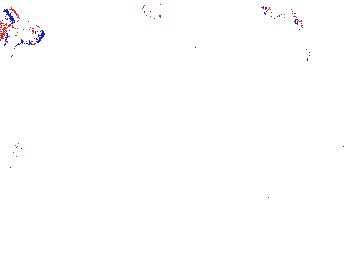X-ray fish: (141, 1, 178, 21)
glassfish: (68, 2, 222, 66)
redtail glassfish: (1, 18, 45, 50), (275, 62, 334, 85), (260, 3, 305, 33), (296, 46, 314, 103)
